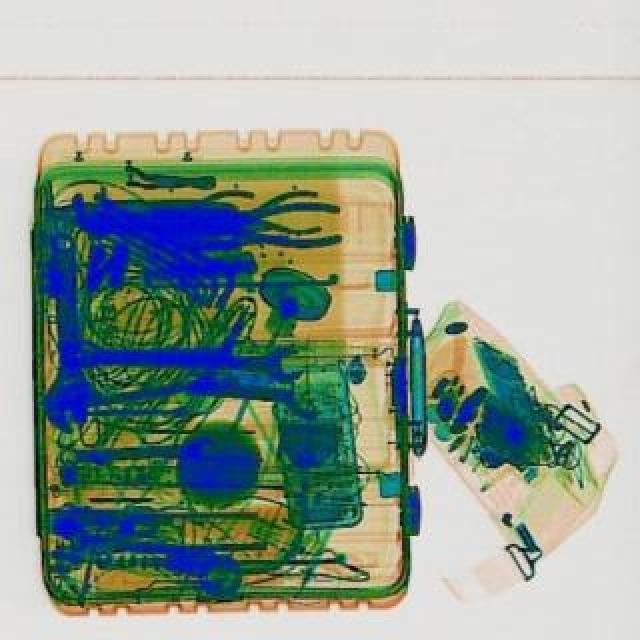scissors: (74, 332, 306, 382), (42, 232, 98, 432)
wrench: (212, 198, 344, 248)
